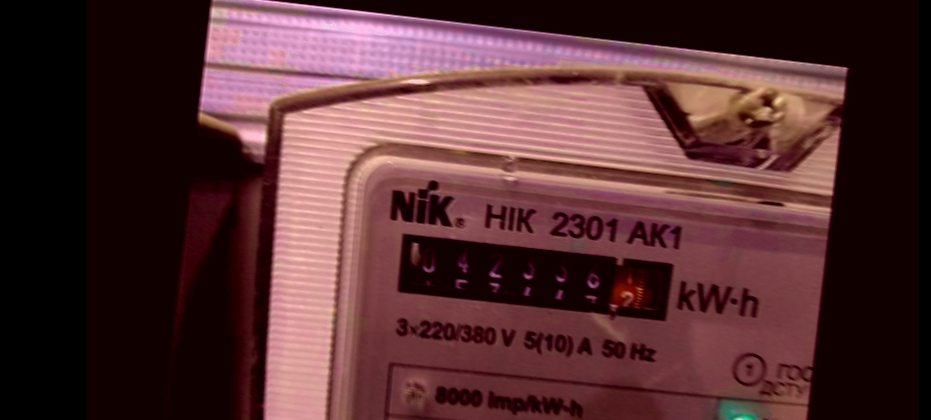0: (420, 247, 440, 276)
1: (623, 264, 638, 287)
2: (488, 250, 508, 281), (619, 290, 637, 309)
3: (552, 255, 571, 286), (520, 253, 538, 283)
4: (455, 246, 475, 276)
6: (586, 261, 606, 292)
screen: (385, 220, 689, 335)
